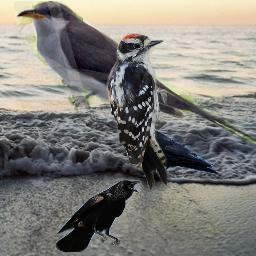Crow: (56, 179, 140, 252), (125, 124, 220, 177)
Cuckoo: (14, 1, 256, 147)
Woodpecker: (105, 33, 167, 190)
